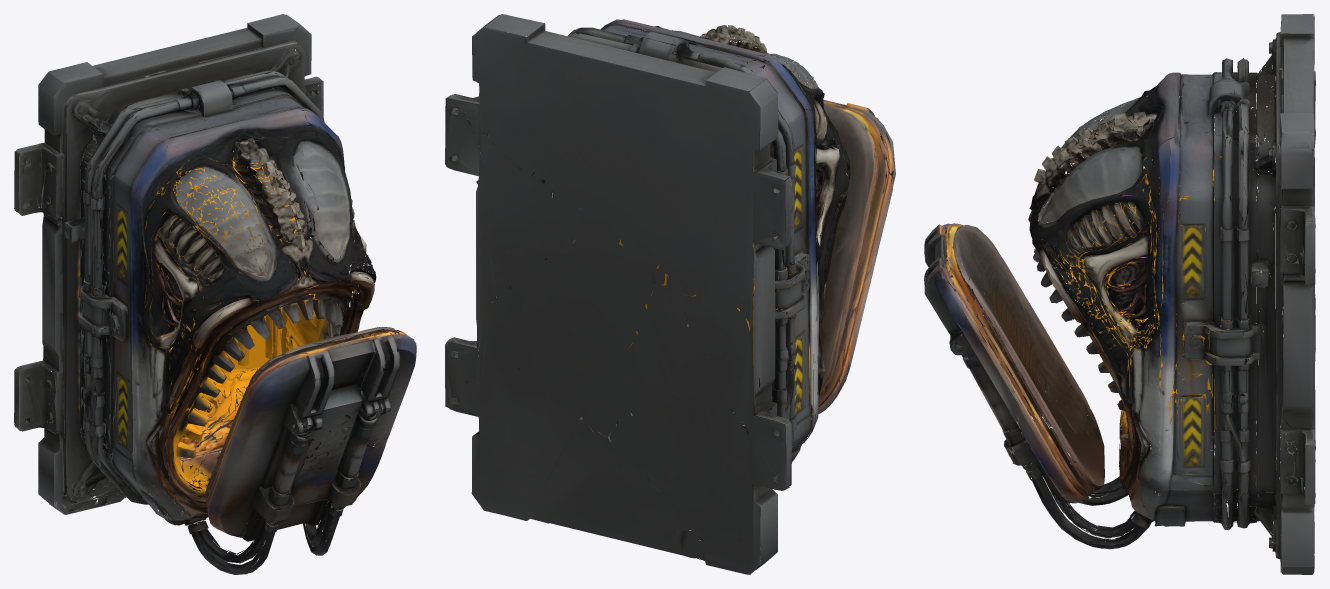
The model's file is corp_asset_incinerator_chute.glb.
3 views of the same model, side by side, from view 1: azimuth 30°, elevation 25°; view 2: azimuth 150°, elevation 25°; view 3: azimuth 270°, elevation 25° (orthographic). The views are drawn at different scales.
Visible parts, largest first — view 1: node_0; view 2: node_0; view 3: node_0.
Part boxes in pixels (box(x1,y1,x2,y2)): node_0: box(14, 14, 416, 574); node_0: box(445, 14, 895, 574); node_0: box(924, 14, 1315, 574).
Bounding box in the file's own units: 0.6244 × 0.8684 × 0.6806.
Materials: 1 (1 with a texture image).
